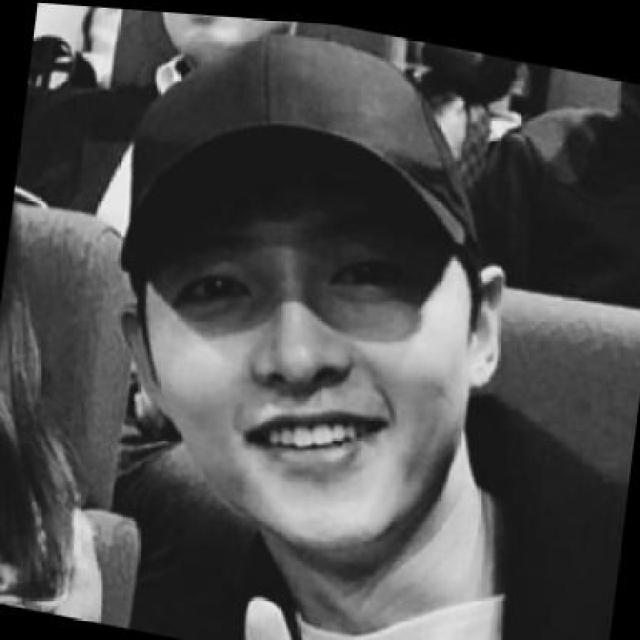hat: (114, 34, 482, 296)
